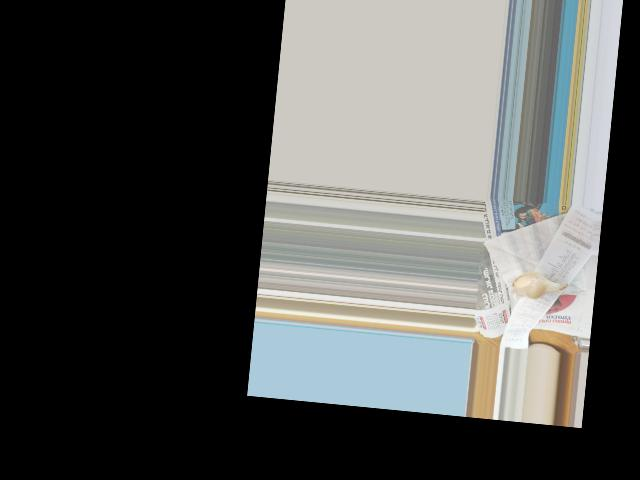onion: (514, 270, 564, 299)
